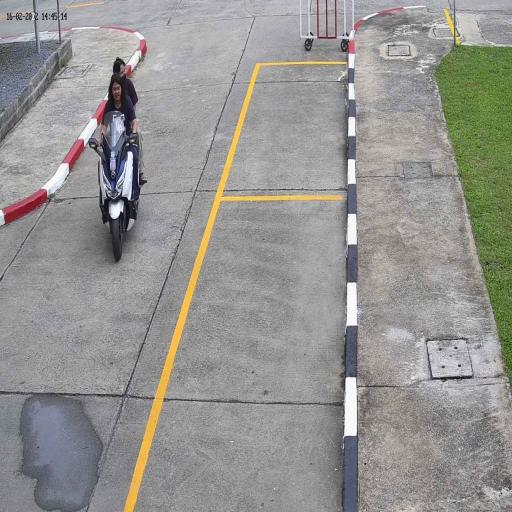motorcycle: (97, 117, 140, 263)
